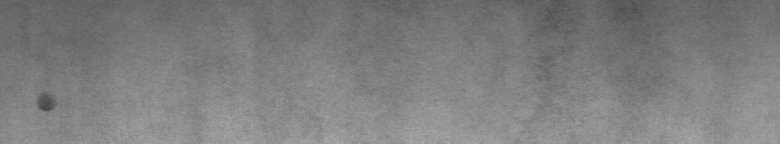fi: (32, 88, 57, 119)
